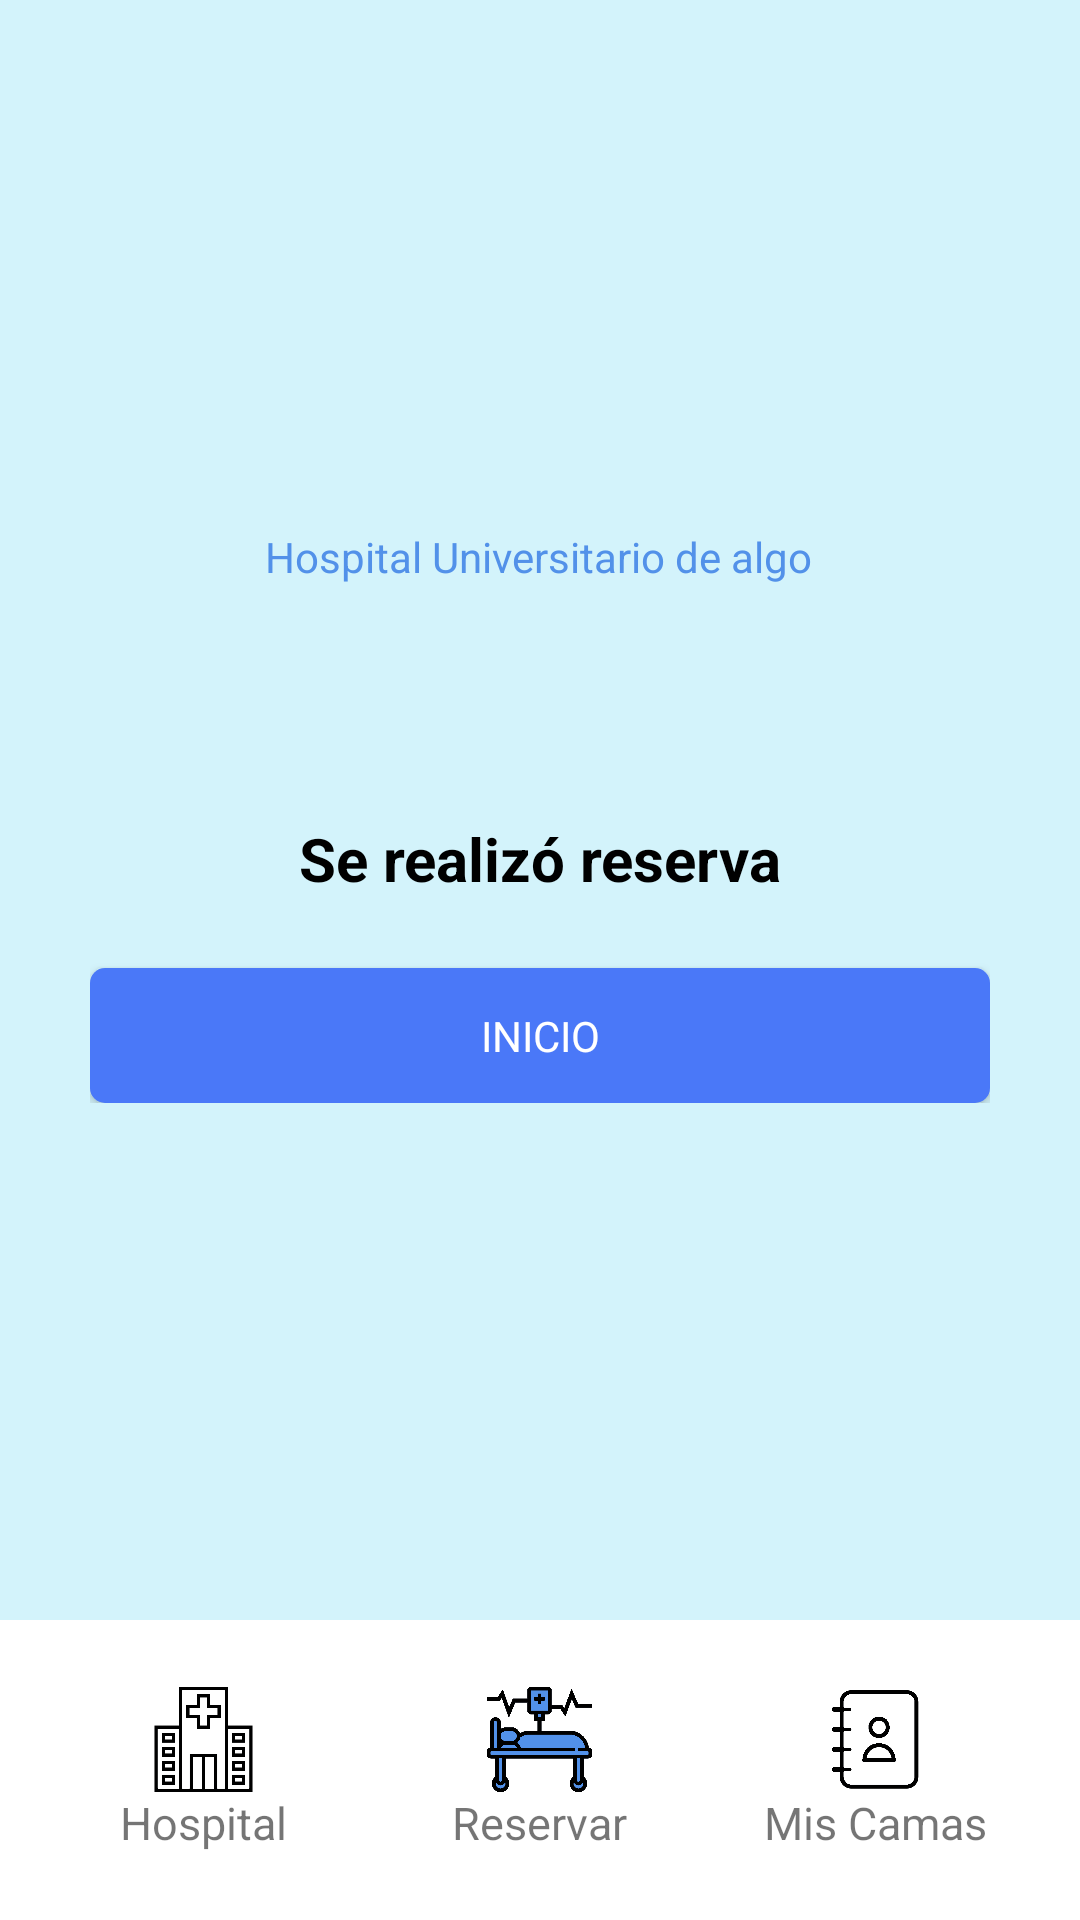

Point at icon controls on the screen. Image size 1080w x 1920h, points as (x=x, y=y).
"icono del menú con una agenda blanca: (x=875, y=1739)
icono del menú con una camilla azul: (x=539, y=1739)
